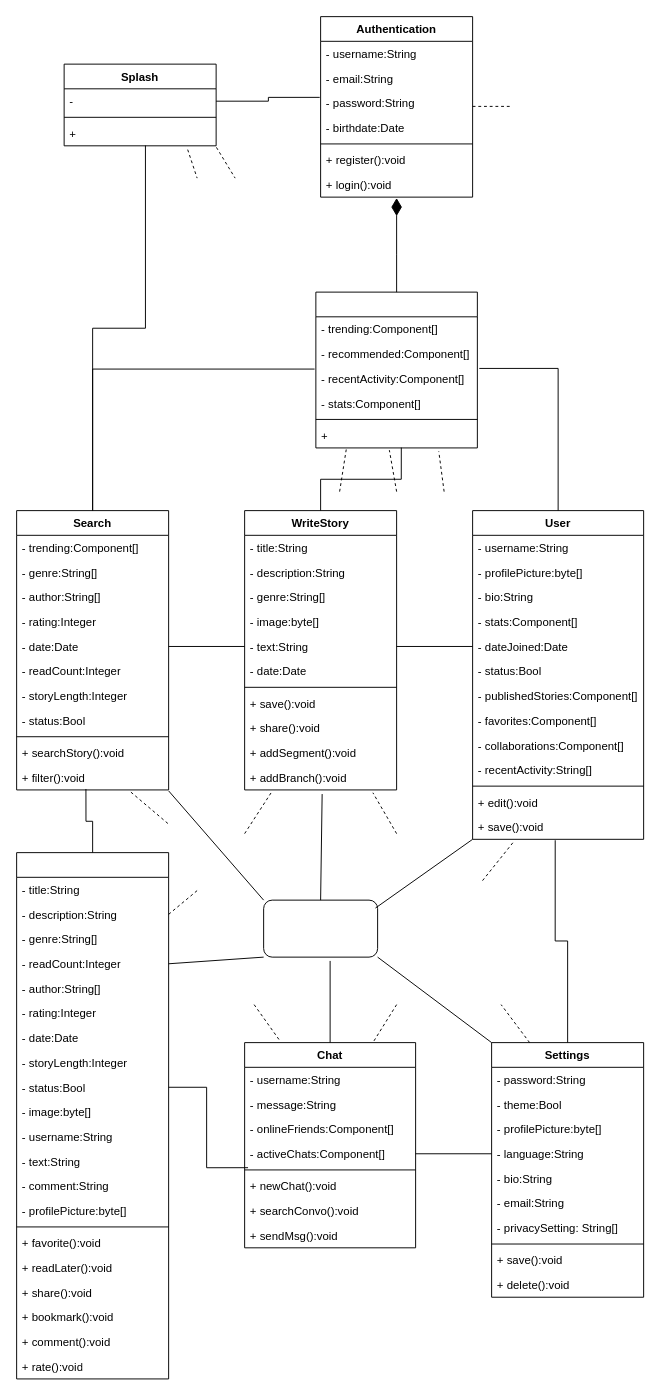
Some shapes in this 660 by 1398 pixel diagram are drawn without their labels. The box of each missing label's shape, as (x1, y1, x2, y2) in pixels:
Home: (315, 291, 477, 448)
ReadStory: (16, 852, 169, 1379)
Serveur: (263, 899, 378, 957)
